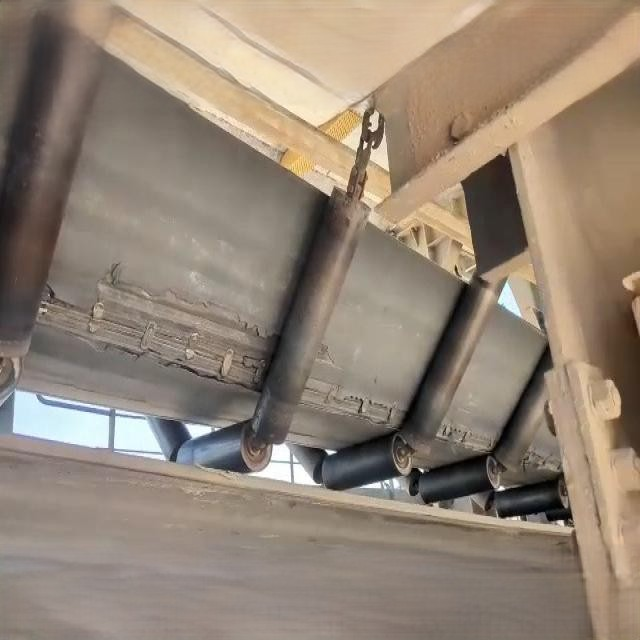Tear: (36, 257, 282, 399), (299, 338, 412, 438), (434, 406, 504, 460)
